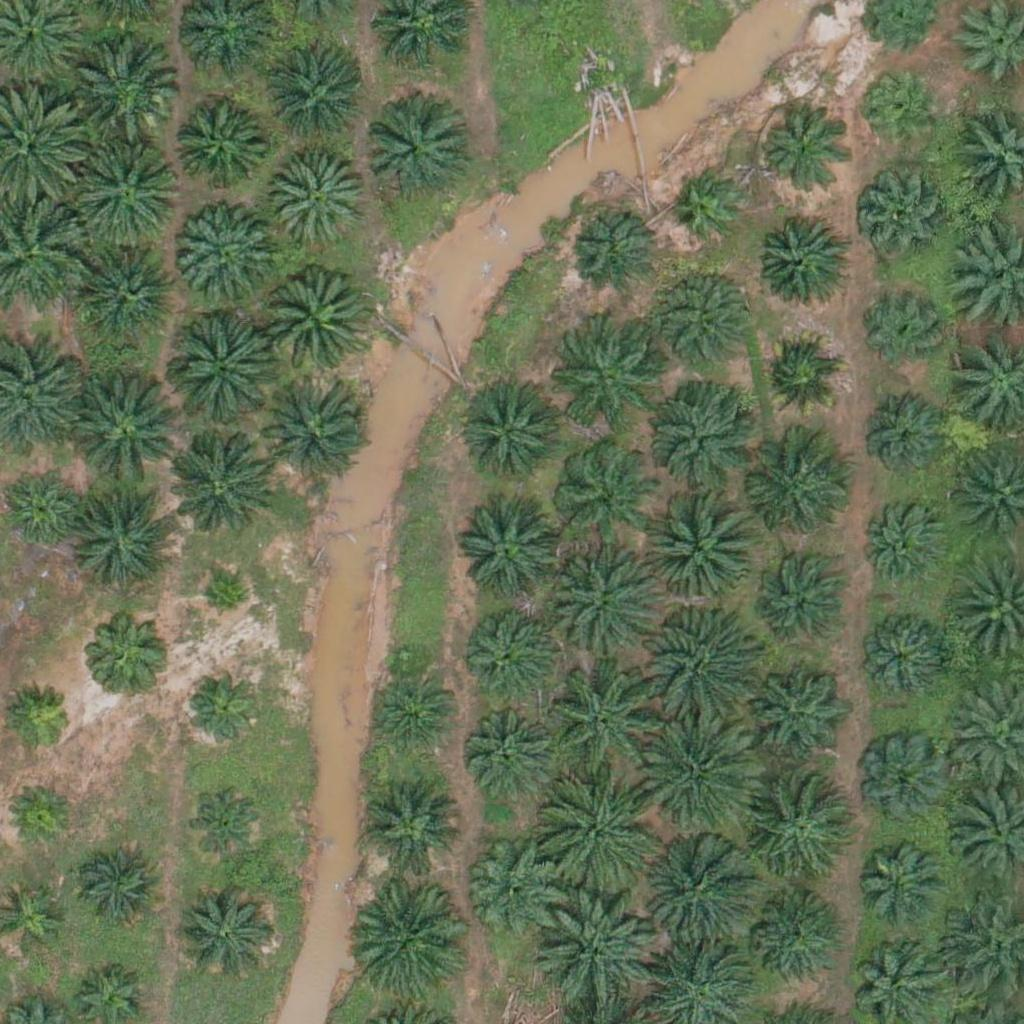Kelapa_Sawit: (353, 879, 466, 993), (537, 896, 650, 1009), (646, 717, 759, 830), (646, 606, 759, 719), (645, 488, 758, 601), (646, 373, 759, 486), (543, 548, 656, 661), (545, 777, 658, 890), (162, 313, 275, 426), (159, 430, 272, 543), (67, 30, 180, 143), (650, 831, 762, 945), (66, 372, 178, 486), (70, 131, 182, 245), (742, 432, 854, 545), (744, 782, 856, 895), (550, 662, 662, 775), (258, 265, 370, 378), (255, 373, 367, 486), (71, 482, 183, 595), (174, 885, 274, 986), (853, 730, 953, 831), (745, 670, 845, 771), (547, 330, 647, 431), (553, 442, 653, 543), (459, 596, 559, 697), (459, 504, 559, 605), (465, 378, 565, 479), (361, 776, 461, 877), (362, 102, 462, 203), (269, 151, 369, 252), (167, 96, 267, 197), (174, 204, 274, 305), (854, 609, 954, 709), (654, 265, 754, 365), (466, 839, 566, 939), (462, 698, 562, 798), (267, 53, 367, 153), (81, 242, 181, 342), (183, 779, 271, 868), (748, 896, 836, 984), (854, 839, 942, 927), (856, 68, 944, 156), (860, 286, 948, 374), (861, 398, 949, 486), (861, 503, 949, 591), (569, 206, 657, 294), (83, 605, 171, 693), (77, 844, 165, 932), (858, 169, 945, 257), (760, 110, 847, 198), (756, 215, 843, 303), (181, 661, 268, 749), (756, 333, 843, 421), (753, 554, 840, 642), (368, 664, 455, 752), (672, 172, 747, 248), (3, 682, 78, 757), (3, 778, 78, 853), (200, 576, 250, 626)
